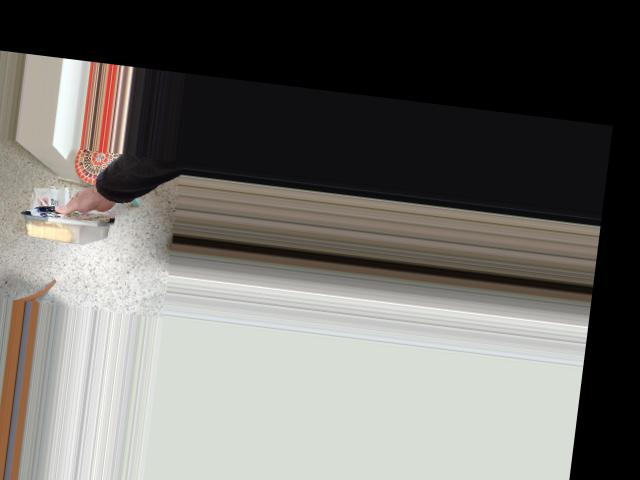cheese: (18, 151, 126, 256)
